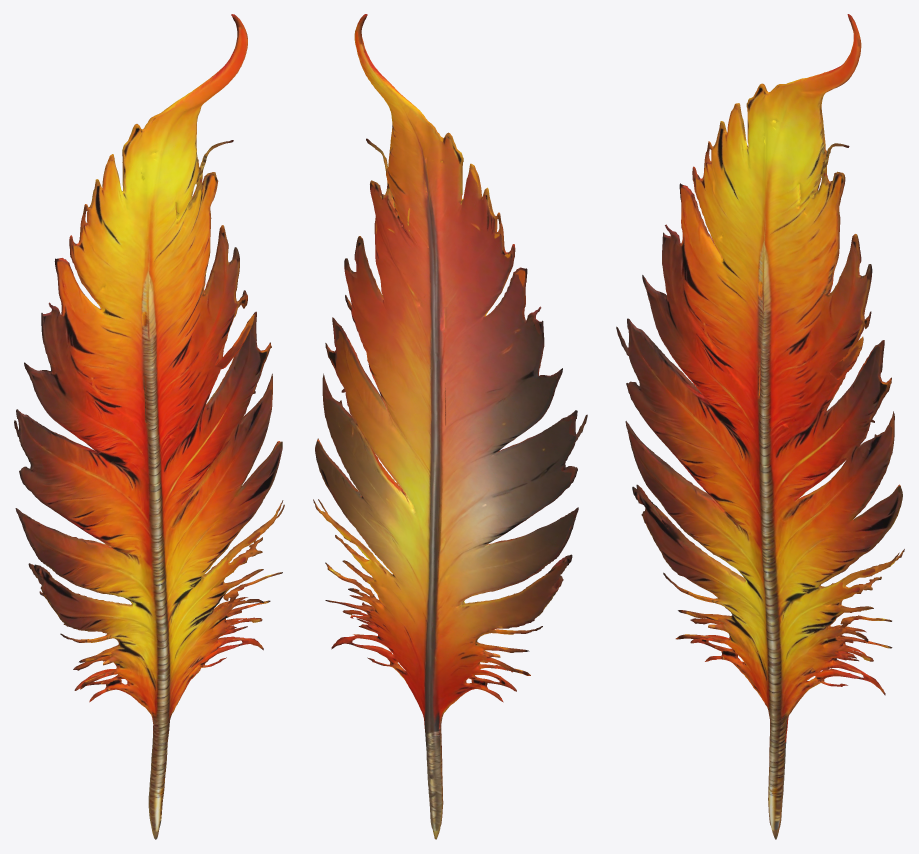
File: MEMOIR.3d.glb
The picture shows the model from 3 angles, left to right: view 1: azimuth 30°, elevation 25°; view 2: azimuth 150°, elevation 25°; view 3: azimuth 330°, elevation 25°; orthographic projection. The views are drawn at different scales.
Size of the model in its own units: 0.7018 by 2 by 0.0785.
1 material, 1 textured.
